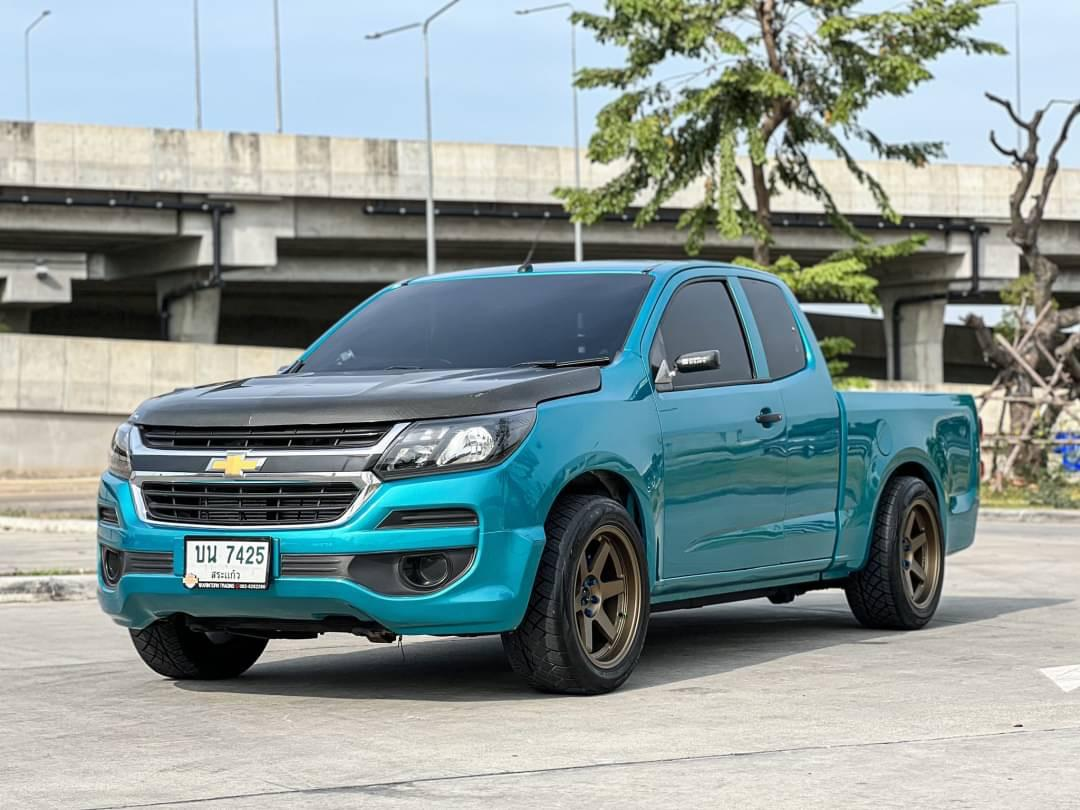license-plate: (182, 533, 275, 589)
